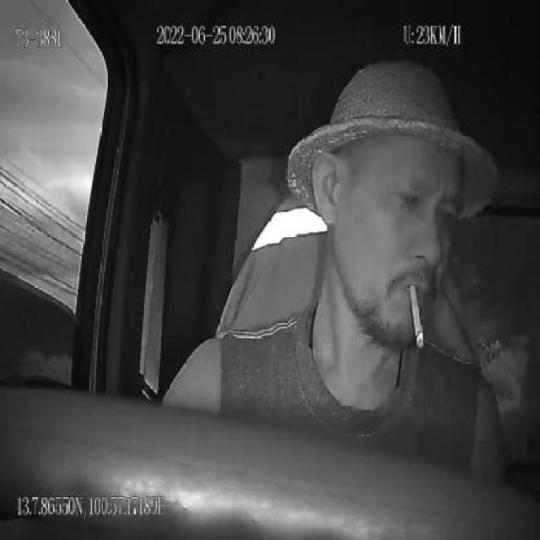smoking: (408, 282, 424, 348)
